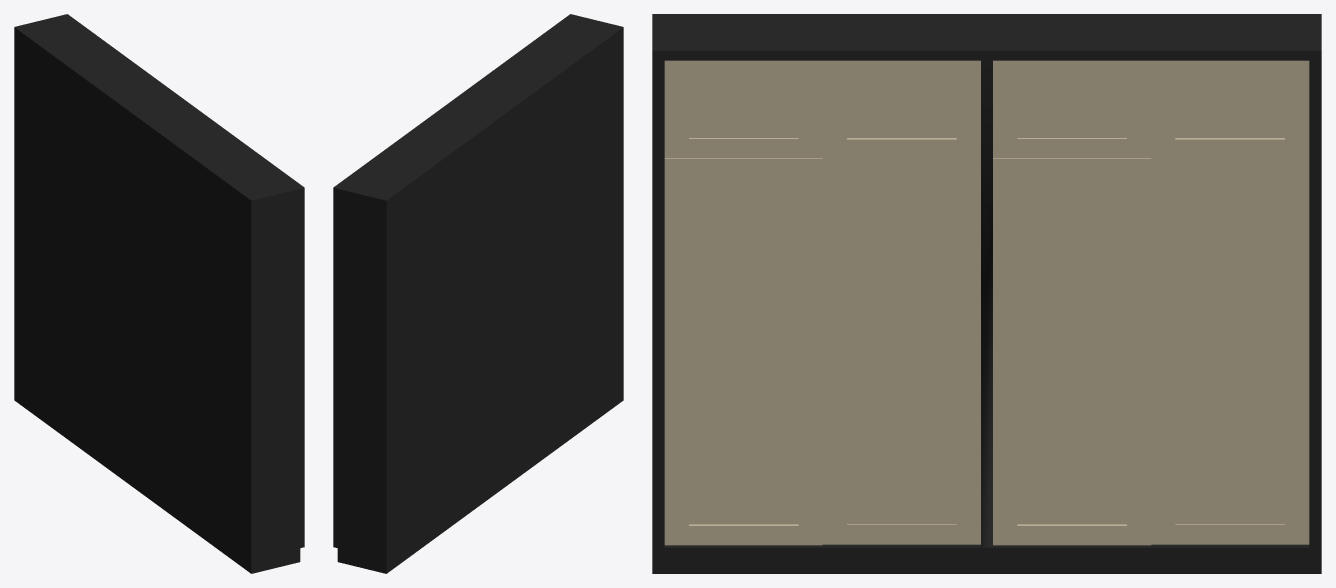
The picture shows the model from 3 angles, left to right: view 1: azimuth 30°, elevation 25°; view 2: azimuth 150°, elevation 25°; view 3: azimuth 270°, elevation 25°; orthographic projection. The views are drawn at different scales.
Visible parts, largest first — view 1: Mesh1_Group1_Closet_Model; view 2: Mesh1_Group1_Closet_Model; view 3: Mesh1_Group1_Closet_Model.
Part boxes in pixels (x1=…): Mesh1_Group1_Closet_Model: x1=14, y1=14, x2=304, y2=573; Mesh1_Group1_Closet_Model: x1=333, y1=14, x2=623, y2=573; Mesh1_Group1_Closet_Model: x1=652, y1=14, x2=1321, y2=573.
Bounding box in the file's own units: 0.15 × 1 × 1.16.
